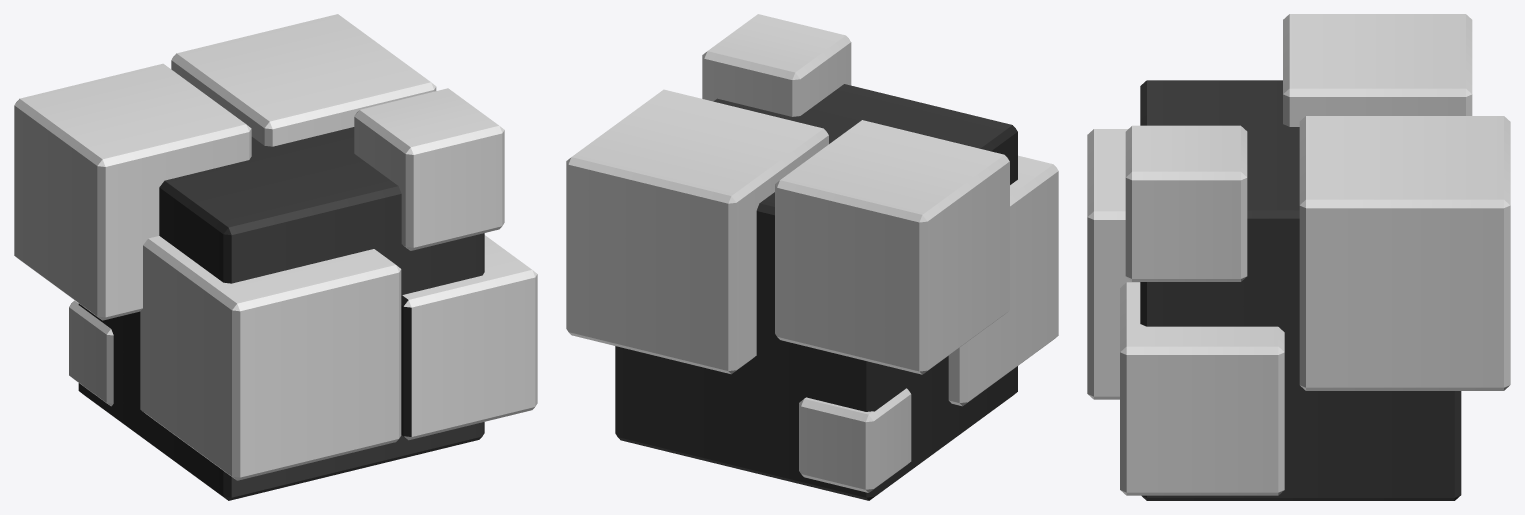
Rendered from SILVER CHUNK.fbx.
3 renders of one model, left to right at view 1: azimuth 30°, elevation 25°; view 2: azimuth 150°, elevation 25°; view 3: azimuth 270°, elevation 25°, orthographic. The views are drawn at different scales.
Visible parts, largest first — view 1: Cube, Cube.003; view 2: Cube, Cube.003; view 3: Cube, Cube.003.
Boxes of the visible parts, bbox=[...] form: Cube: bbox=[14, 14, 537, 480]; Cube.003: bbox=[78, 127, 484, 500]; Cube: bbox=[566, 14, 1058, 492]; Cube.003: bbox=[615, 84, 1017, 500]; Cube: bbox=[1087, 14, 1510, 495]; Cube.003: bbox=[1140, 80, 1461, 500].
Size of the model in its own units: 69.57 by 57.78 by 65.94.
